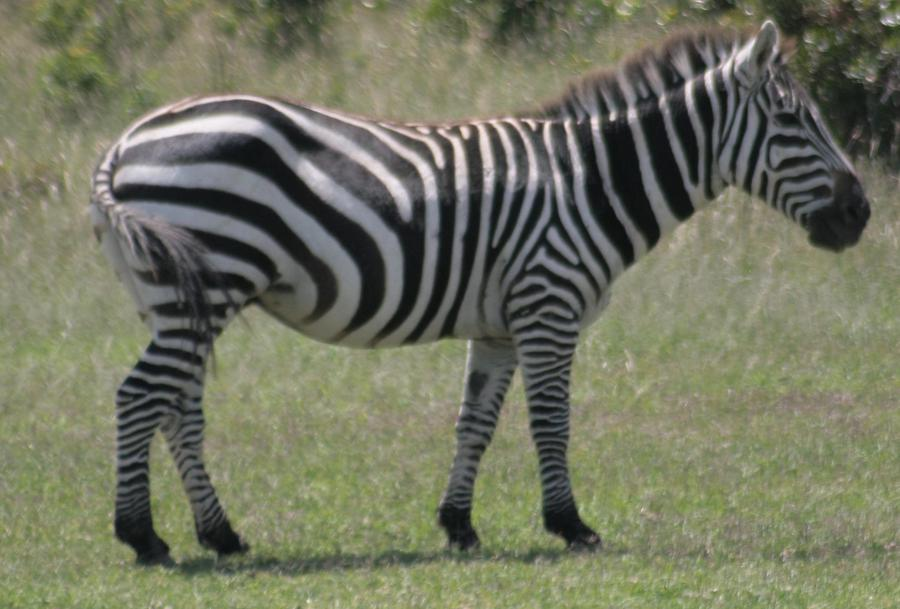zebra_plains: (119, 76, 610, 351)
